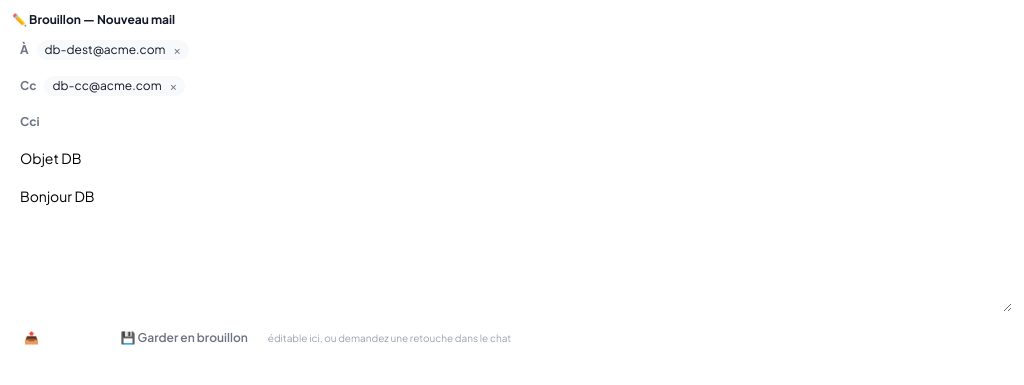
Test: MailDraftWidget › Garder en brouillon › flush échoué (revue I1) → note d’échec, JAMAIS « Sauvegardé… »
This screenshot has width=1024, height=385.
Replace the text in the field named "Objet" with "Nouvel objet" at x=512, y=158, box [12,144,1012,172]
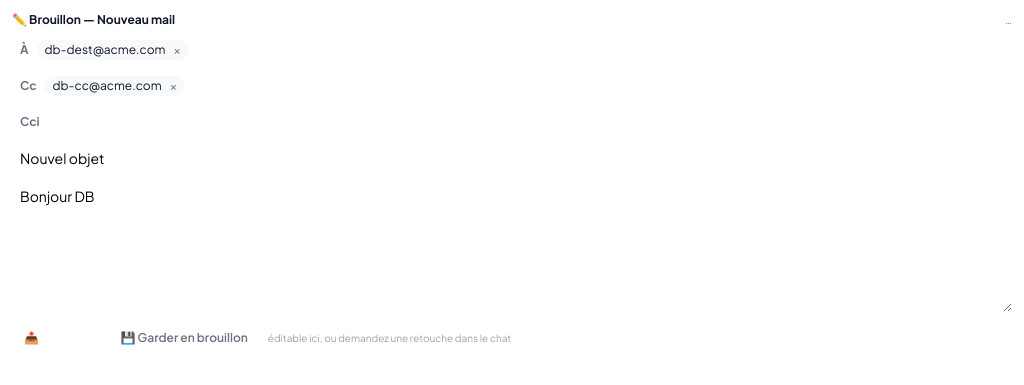
Click the button "💾 Garder en brouillon" at x=184, y=338, box [108,326,260,350]
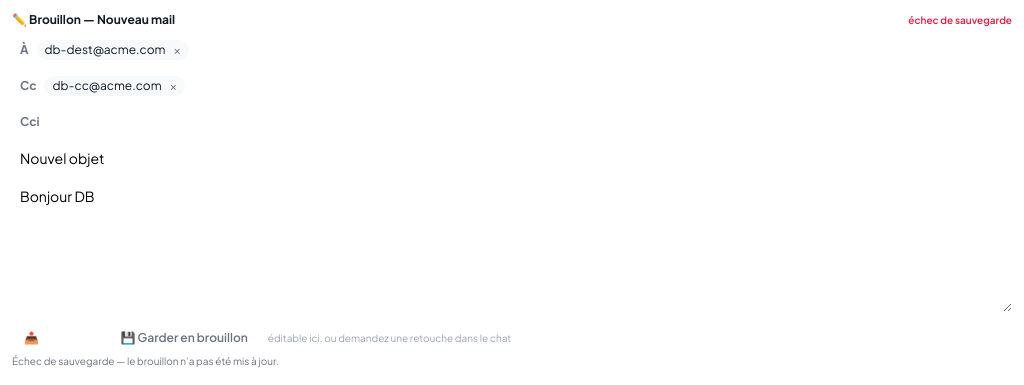
Check: the text "Échec de sauvegarde — le brouillon n’a pas été mis à jour." is shown, box [12,355,279,367]
